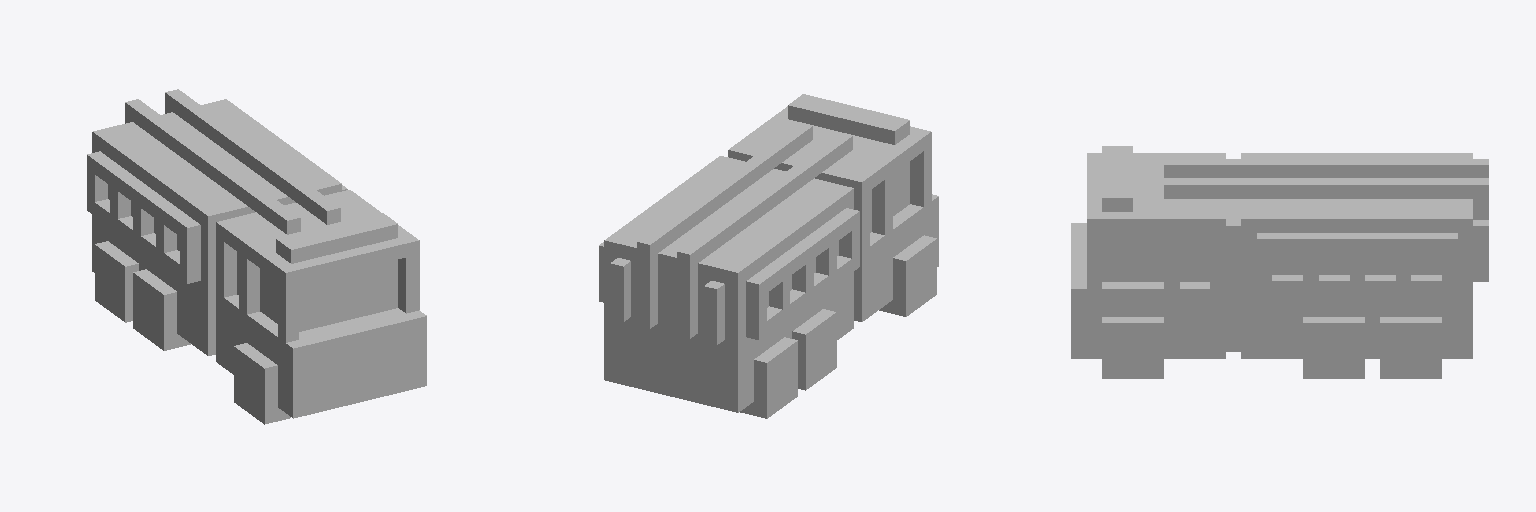
File: Voxel Design (Cars)-5.obj
The picture shows the model from 3 angles: view 1: azimuth 30°, elevation 25°; view 2: azimuth 150°, elevation 25°; view 3: azimuth 270°, elevation 25°; orthographic projection.
Parts seen in each view (by area): view 1: object 1; view 2: object 1; view 3: object 1.
Part boxes in pixels (left/top/right/bottom): object 1: left=87, top=89, right=426, bottom=424; object 1: left=599, top=94, right=938, bottom=418; object 1: left=1071, top=146, right=1488, bottom=378.
Size of the model in its own units: 1.2 by 1.2 by 2.7.